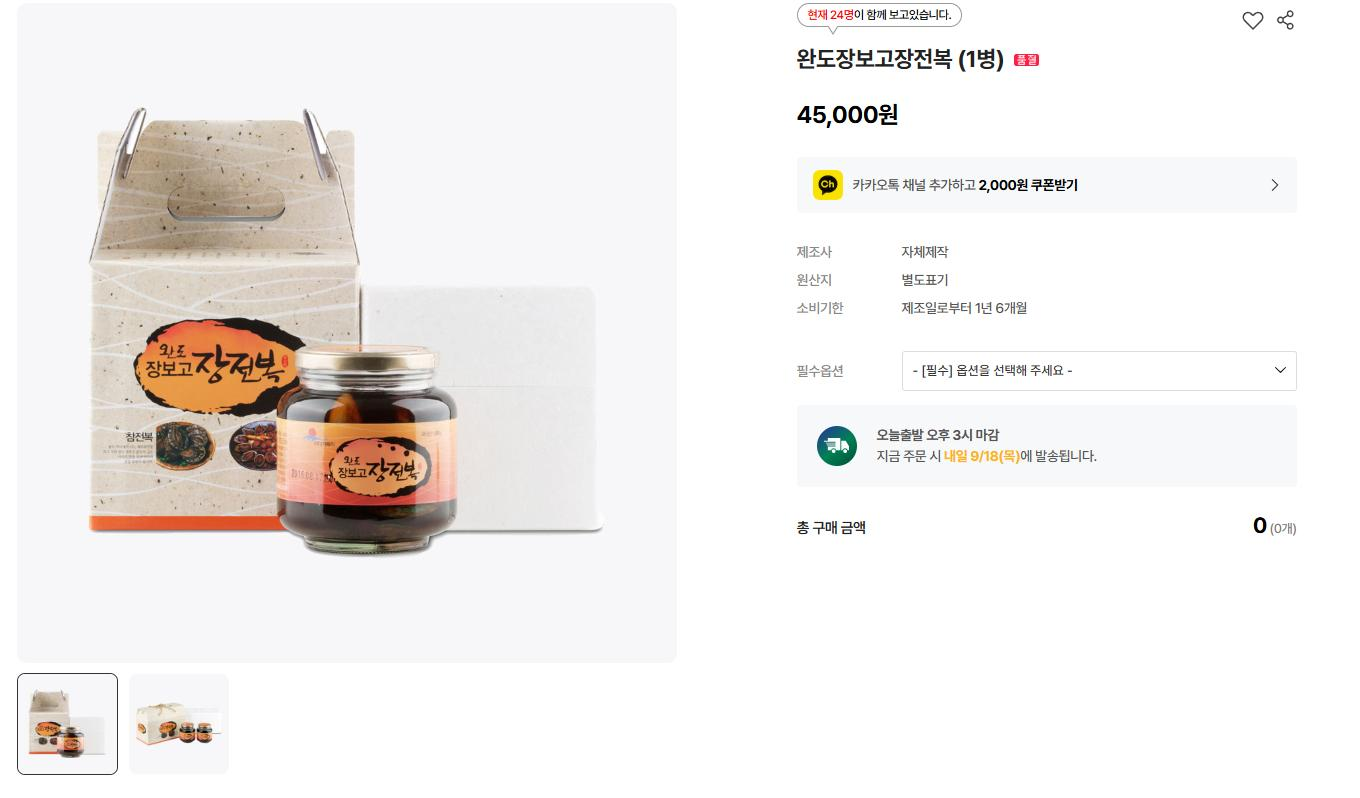button: (797, 155, 1298, 212), (14, 669, 120, 777), (128, 671, 231, 777), (1235, 1, 1270, 40), (1271, 2, 1306, 39)
checkbox: (898, 349, 1299, 394)
popup: (787, 1, 991, 43)
